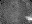person: (26, 15, 31, 21)
